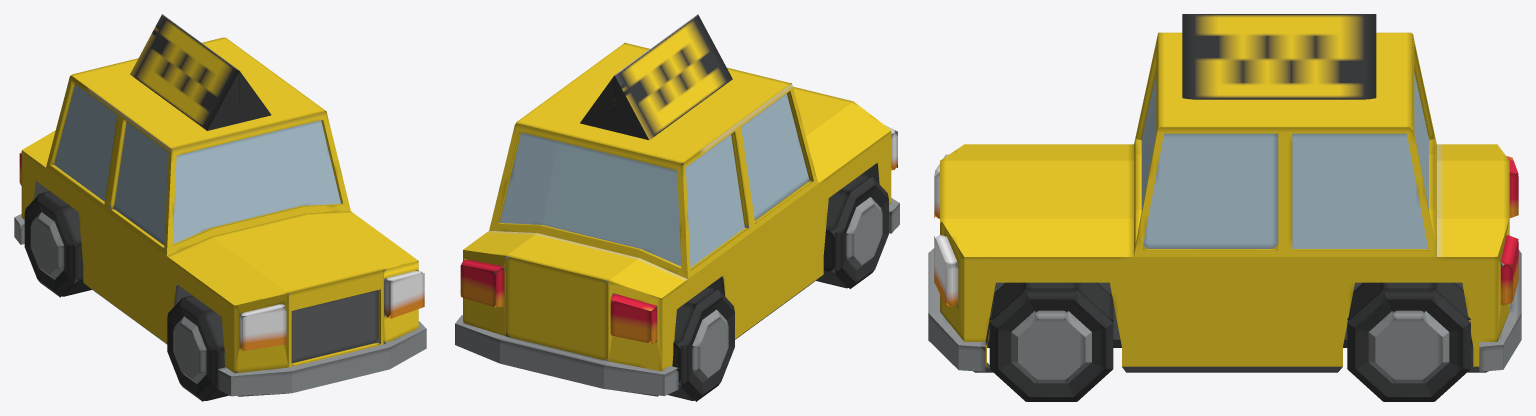
File: Car 3.fbx
The picture shows the model from 3 angles, left to right: view 1: azimuth 30°, elevation 25°; view 2: azimuth 150°, elevation 25°; view 3: azimuth 270°, elevation 25°; orthographic projection. The views are drawn at different scales.
Parts seen in each view (by area): view 1: cuboid, cylinder_4, cylinder_3, cylinder_2; view 2: cuboid, cylinder_4, cylinder_2, cylinder_3; view 3: cuboid, cylinder_4, cylinder, cylinder_1.
Part boxes in pixels (x1=…): cuboid: x1=14, y1=37, x2=426, y2=396; cylinder_4: x1=130, y1=14, x2=271, y2=130; cylinder_3: x1=24, y1=191, x2=91, y2=297; cylinder_2: x1=167, y1=295, x2=228, y2=401; cuboid: x1=455, y1=43, x2=899, y2=396; cylinder_4: x1=580, y1=14, x2=732, y2=140; cylinder_2: x1=816, y1=174, x2=888, y2=288; cylinder_3: x1=667, y1=287, x2=734, y2=401; cuboid: x1=928, y1=32, x2=1521, y2=372; cylinder_4: x1=1182, y1=14, x2=1376, y2=99; cylinder: x1=989, y1=282, x2=1113, y2=401; cylinder_1: x1=1347, y1=282, x2=1470, y2=401.
Size of the model in its own units: 157 by 187 by 306.
1 material, 1 textured.
